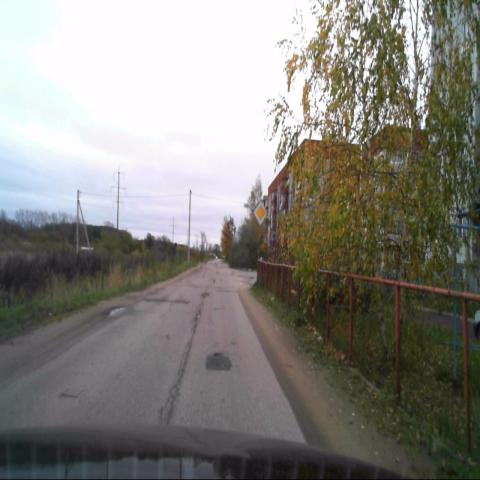2_1: (253, 201, 266, 224)
